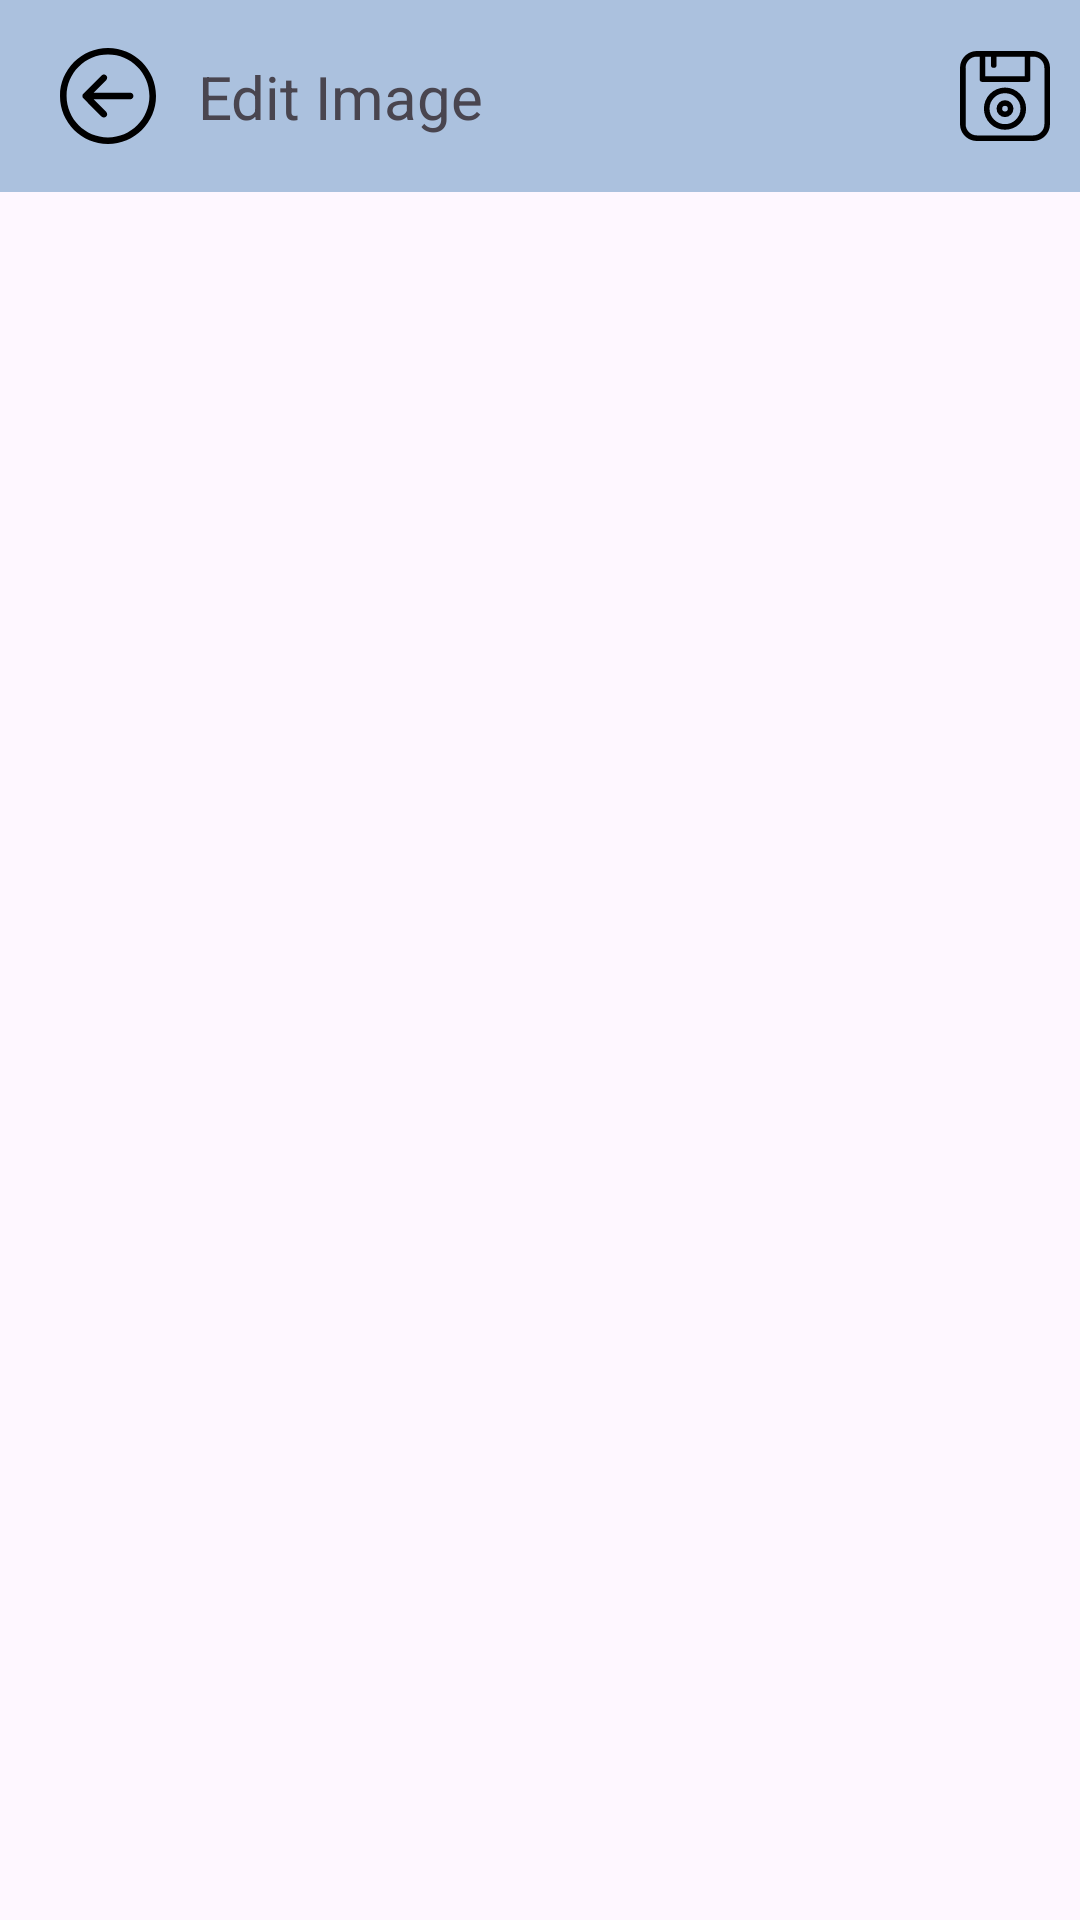

Icon click points for this 1080x1920 phone screenshot, format point (x, y):
back: point (108, 96)
save: point (1005, 96)
